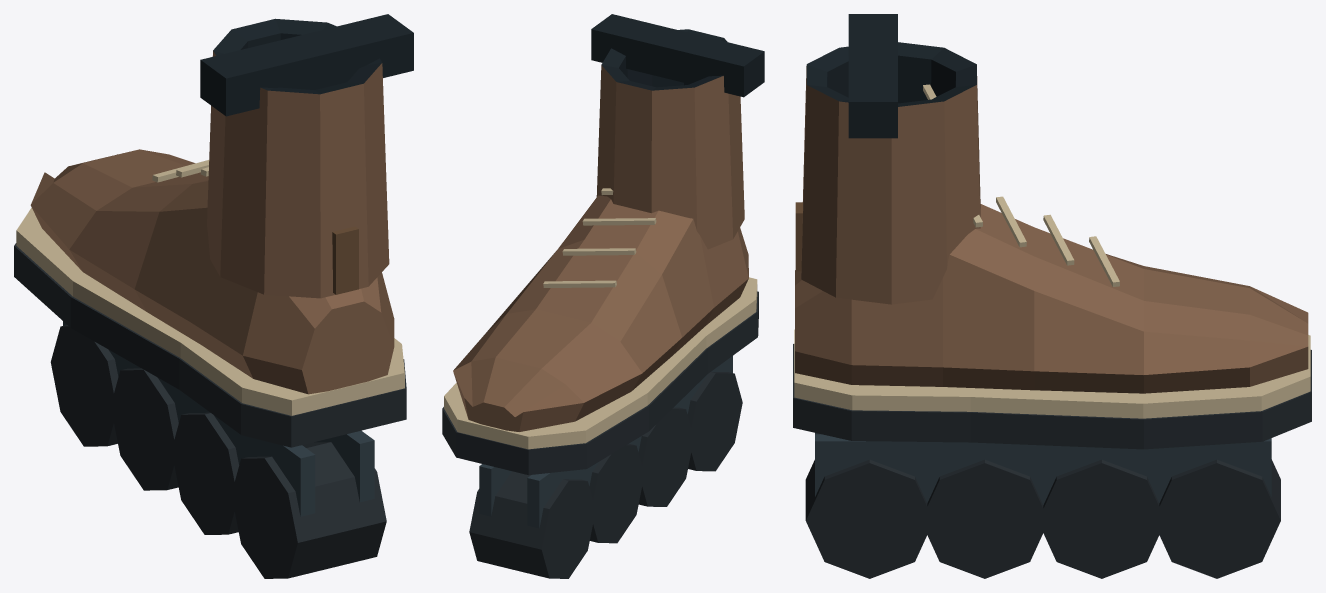
Rendered from b17_inline_skate.glb.
The picture shows the model from 3 angles, left to right: view 1: azimuth 30°, elevation 25°; view 2: azimuth 150°, elevation 25°; view 3: azimuth 270°, elevation 25°; orthographic projection. The views are drawn at different scales.
Visible parts, largest first — view 1: b17_inline_skate; view 2: b17_inline_skate; view 3: b17_inline_skate.
Boxes of the visible parts, x1=… form: b17_inline_skate: x1=14, y1=14, x2=413, y2=578; b17_inline_skate: x1=442, y1=14, x2=764, y2=578; b17_inline_skate: x1=793, y1=14, x2=1311, y2=578.
Bounding box in the file's own units: 0.124 × 0.302 × 0.284.
